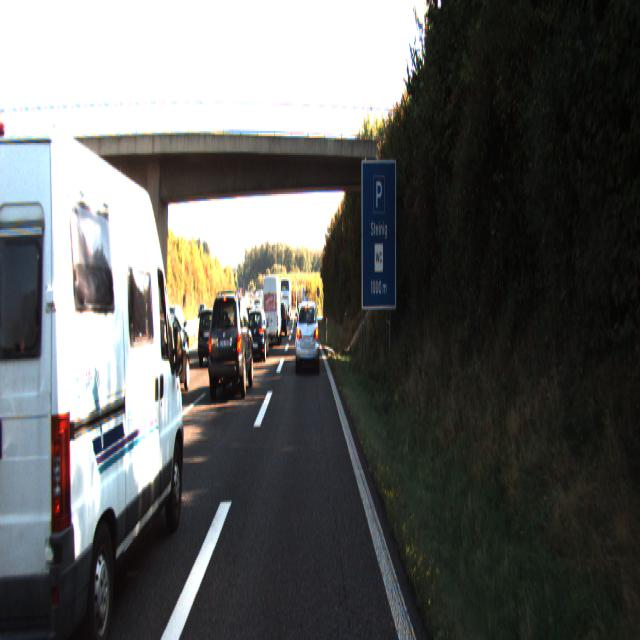Car: (0, 108, 191, 639), (207, 288, 254, 398), (142, 309, 192, 402), (295, 297, 320, 372), (200, 308, 230, 368), (261, 273, 282, 345), (245, 305, 269, 359), (275, 302, 287, 338)
